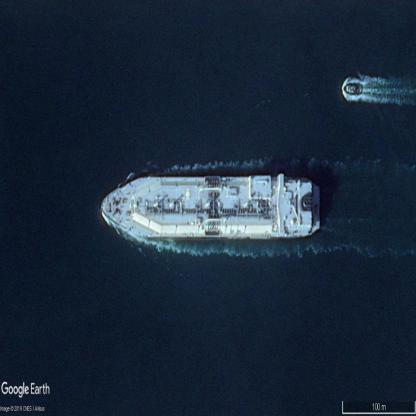ship: (101, 176, 320, 238)
